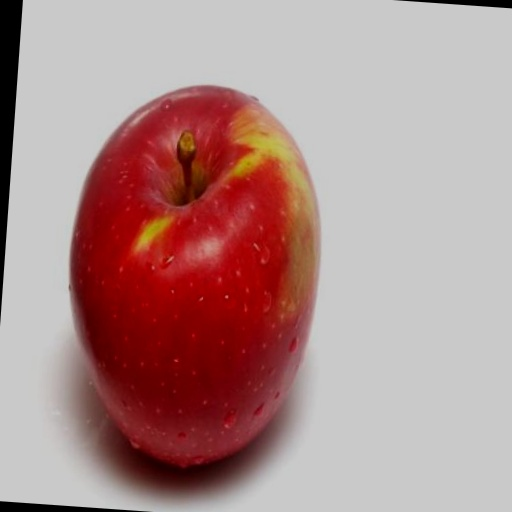fruit: (70, 86, 320, 466)
